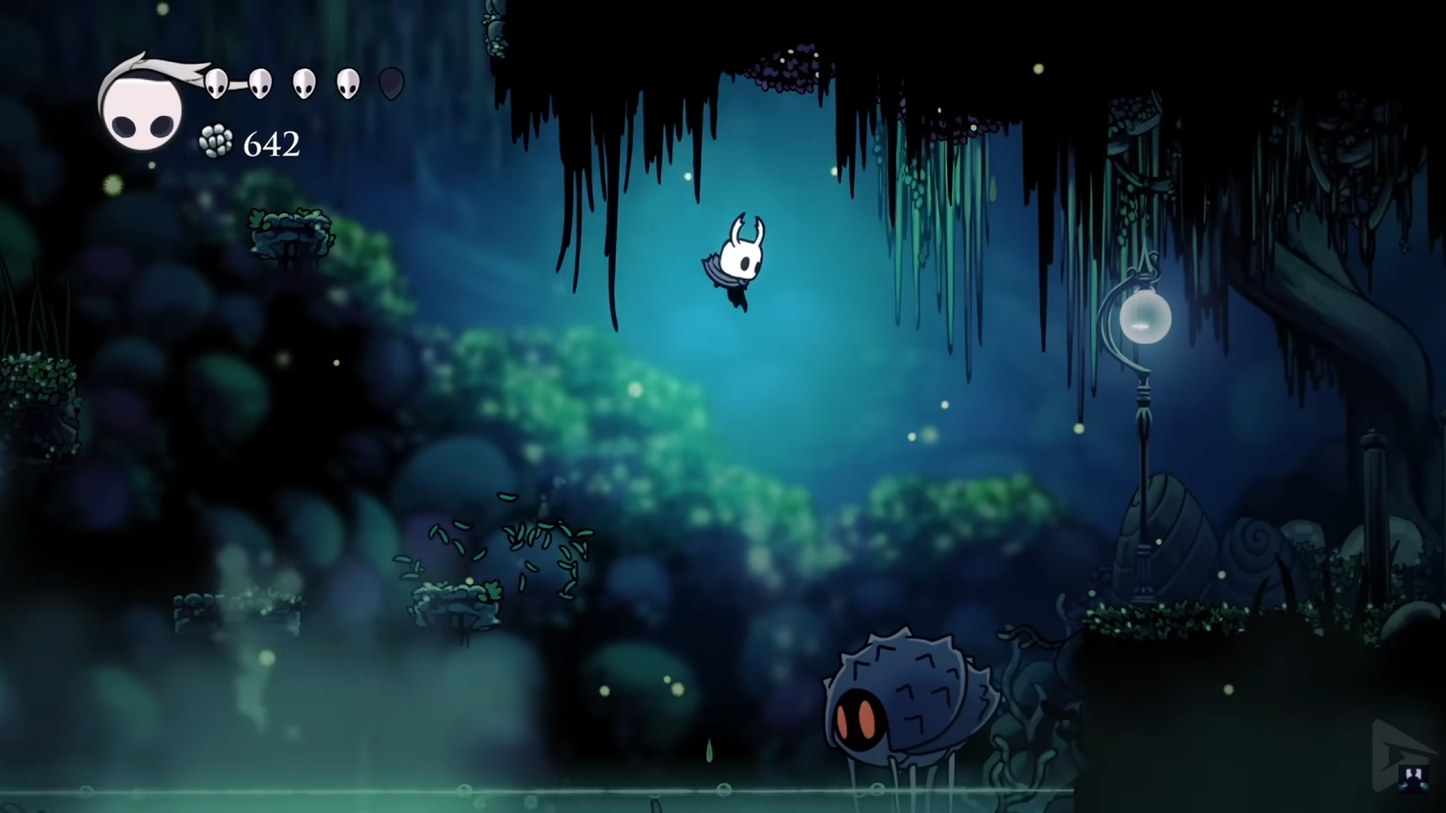HK: (695, 210, 766, 317)
